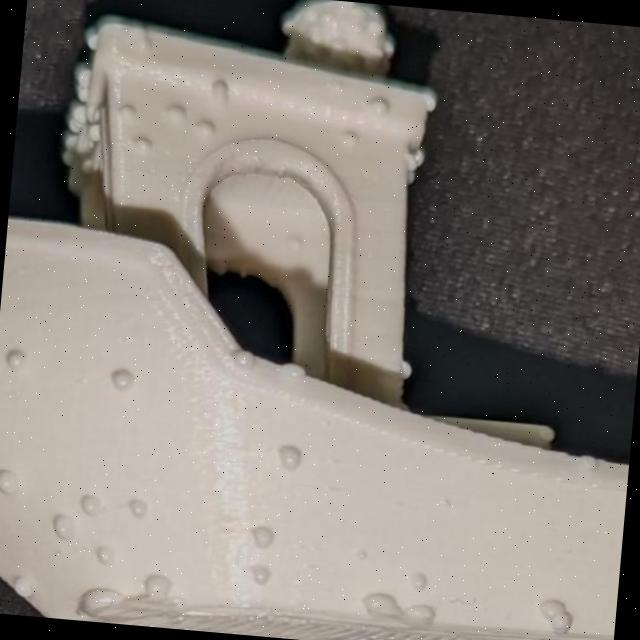blobs: (72, 572, 125, 624), (393, 596, 446, 634), (132, 566, 176, 605), (45, 508, 86, 544), (0, 457, 30, 504), (62, 97, 96, 137), (70, 61, 104, 100), (269, 432, 305, 468), (241, 518, 279, 552), (242, 555, 280, 588), (532, 592, 575, 620), (128, 126, 160, 160), (360, 584, 394, 616), (104, 362, 138, 393), (0, 340, 32, 372), (118, 488, 150, 520), (402, 566, 436, 595), (74, 488, 106, 518), (542, 613, 580, 638), (161, 95, 193, 124), (114, 101, 148, 128), (200, 76, 237, 100), (276, 356, 311, 380), (88, 544, 120, 570), (227, 346, 260, 370), (336, 122, 366, 148), (72, 27, 102, 50), (392, 360, 420, 383), (10, 574, 36, 598), (365, 96, 394, 116), (352, 544, 375, 564), (193, 116, 214, 136)
